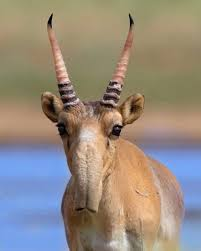saiga: (39, 12, 188, 251)
